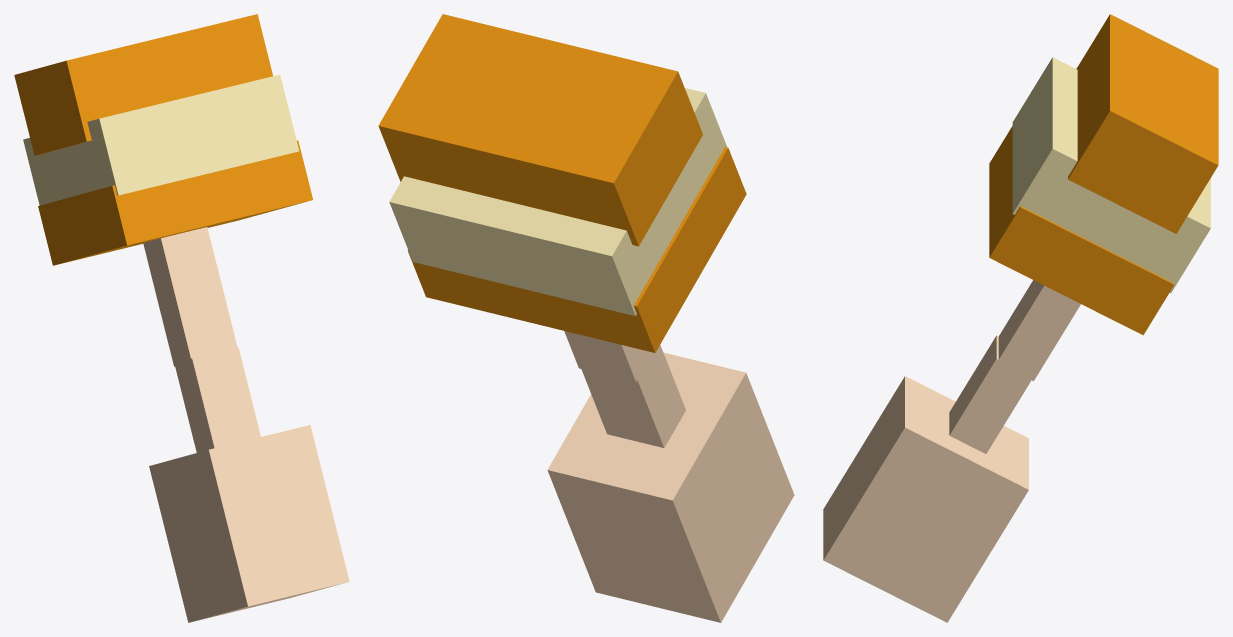
File: phineas_leftarm.obj
3 views of the same model, side by side, from view 1: azimuth 30°, elevation 25°; view 2: azimuth 150°, elevation 25°; view 3: azimuth 270°, elevation 25° (orthographic). The views are drawn at different scales.
Parts seen in each view (by area): view 1: Cube_011, Cube_013, Cube_047_Cube_051, Cube_046_Cube_050, Cube_050_Cube_065, Cube_012; view 2: Cube_047_Cube_051, Cube_011, Cube_013, Cube_046_Cube_050, Cube_012, Cube_050_Cube_065; view 3: Cube_011, Cube_047_Cube_051, Cube_013, Cube_046_Cube_050, Cube_012, Cube_050_Cube_065.
Part boxes in pixels (x1,y1,x2,y2): Cube_011: [149, 425, 349, 622]; Cube_013: [23, 74, 299, 205]; Cube_047_Cube_051: [14, 14, 272, 155]; Cube_046_Cube_050: [38, 140, 312, 265]; Cube_050_Cube_065: [143, 227, 237, 366]; Cube_012: [174, 347, 260, 452]; Cube_047_Cube_051: [378, 14, 702, 246]; Cube_011: [547, 352, 794, 622]; Cube_013: [389, 88, 726, 316]; Cube_046_Cube_050: [407, 147, 746, 352]; Cube_012: [581, 345, 685, 447]; Cube_050_Cube_065: [564, 331, 650, 382]; Cube_011: [823, 376, 1028, 622]; Cube_047_Cube_051: [1068, 14, 1218, 233]; Cube_013: [1012, 57, 1210, 293]; Cube_046_Cube_050: [989, 126, 1174, 335]; Cube_012: [949, 335, 1032, 453]; Cube_050_Cube_065: [997, 280, 1080, 381].
Bounding box in the file's own units: 7.26 × 18.72 × 12.52.
